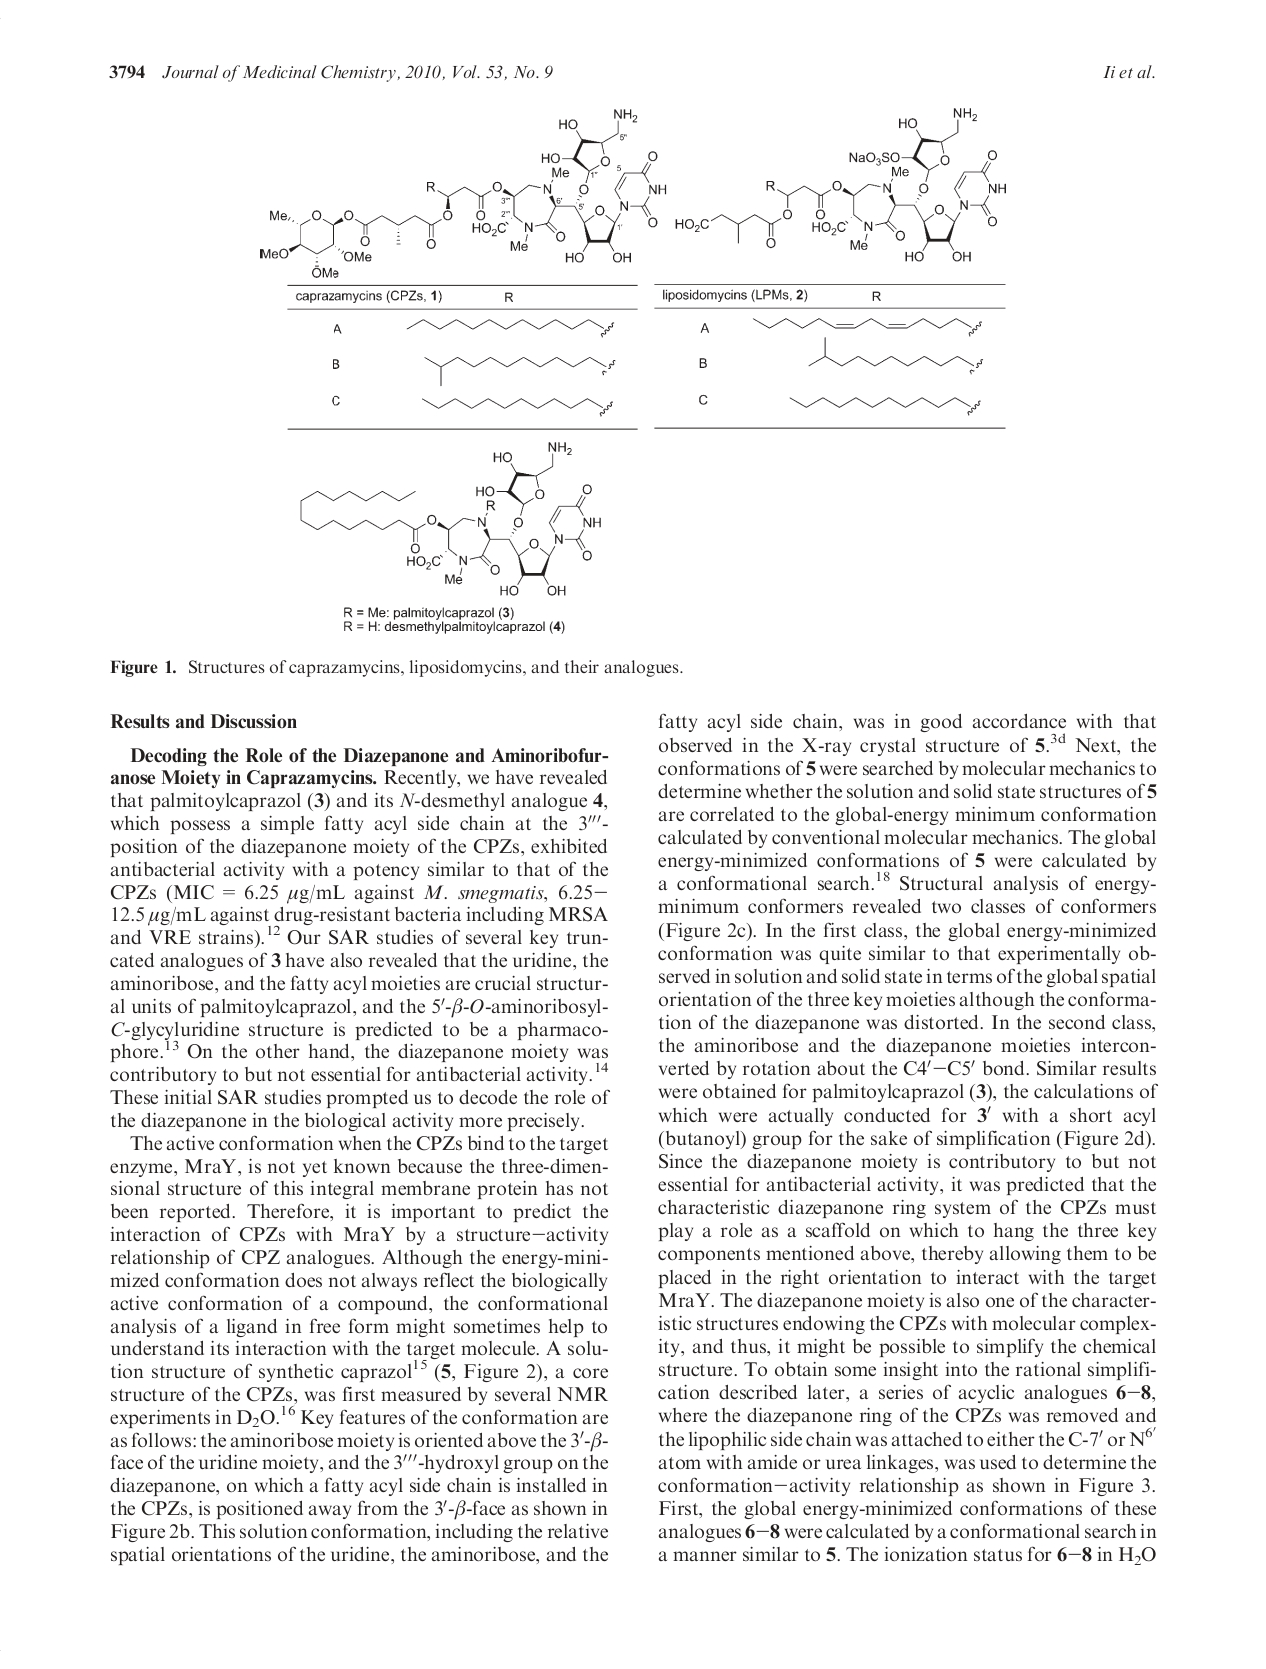exist_molecular: (258, 106, 672, 281), (673, 106, 1008, 262), (298, 442, 604, 596), (807, 335, 989, 376), (420, 356, 618, 386), (786, 391, 985, 419), (419, 394, 616, 422), (403, 317, 620, 340), (751, 317, 985, 338)
